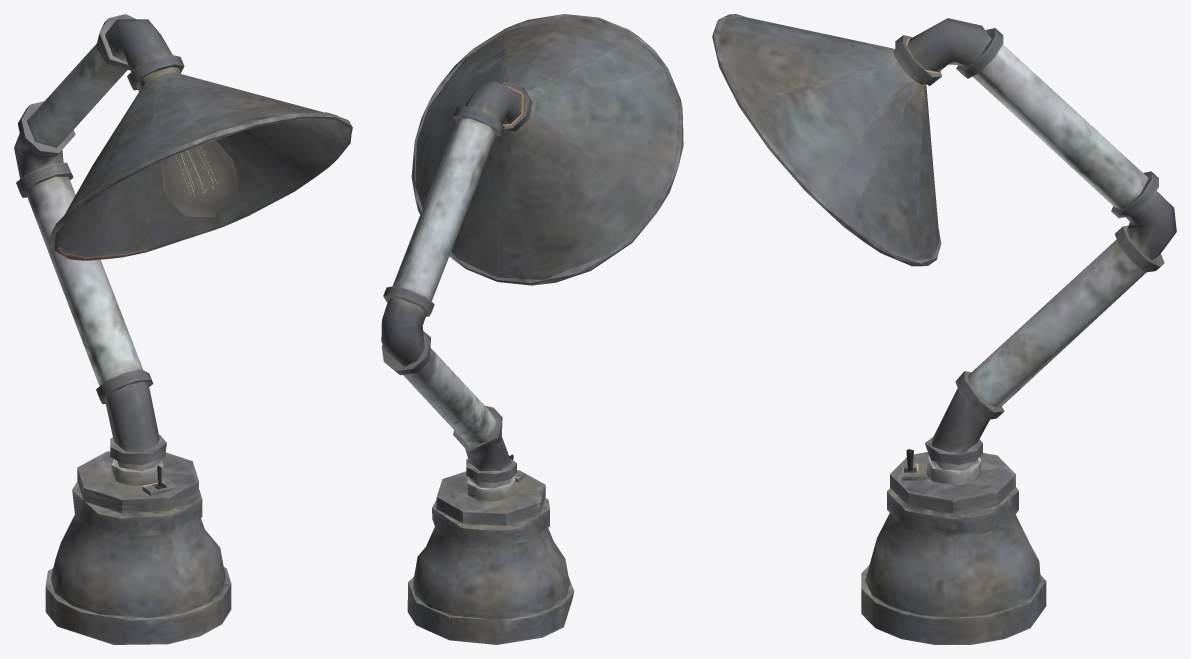
File: industrial_pipe_lamp.slim.glb
The picture shows the model from 3 angles, left to right: view 1: azimuth 30°, elevation 25°; view 2: azimuth 150°, elevation 25°; view 3: azimuth 270°, elevation 25°; orthographic projection. The views are drawn at different scales.
Bounding box in the file's own units: 0.1826 × 0.3633 × 0.2617.
Materials: 2 (2 with a texture image).
